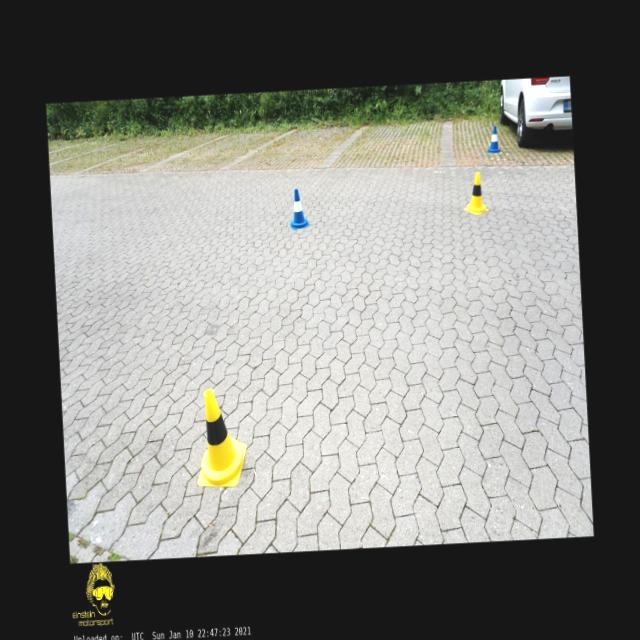blue_cone: (288, 189, 310, 230), (486, 126, 502, 153)
yellow_cone: (193, 388, 249, 488), (461, 172, 489, 216)
